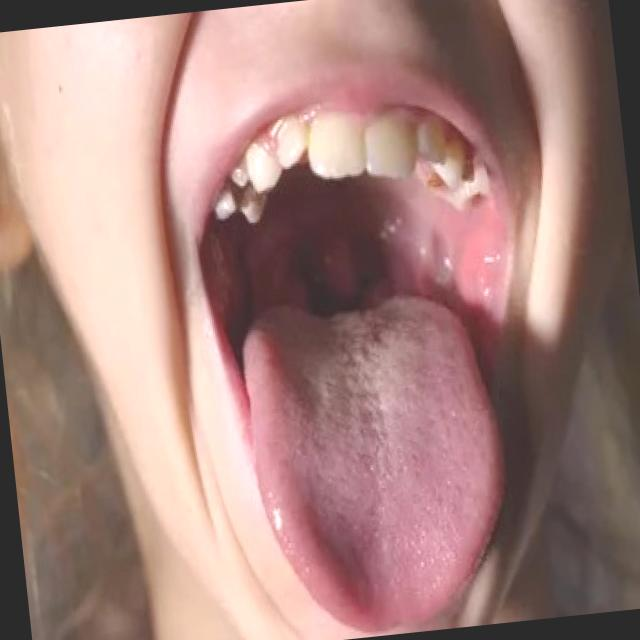No Cancer: (219, 138, 494, 398)
